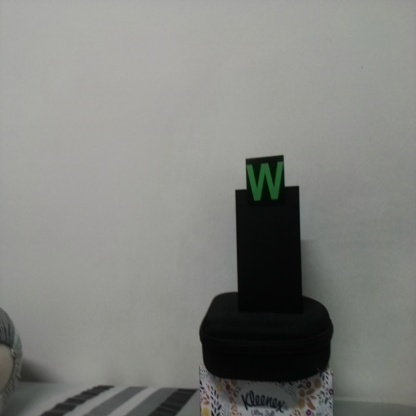id_12: (246, 158, 286, 205)
